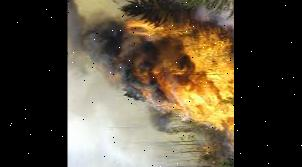fire: (89, 15, 234, 154)
